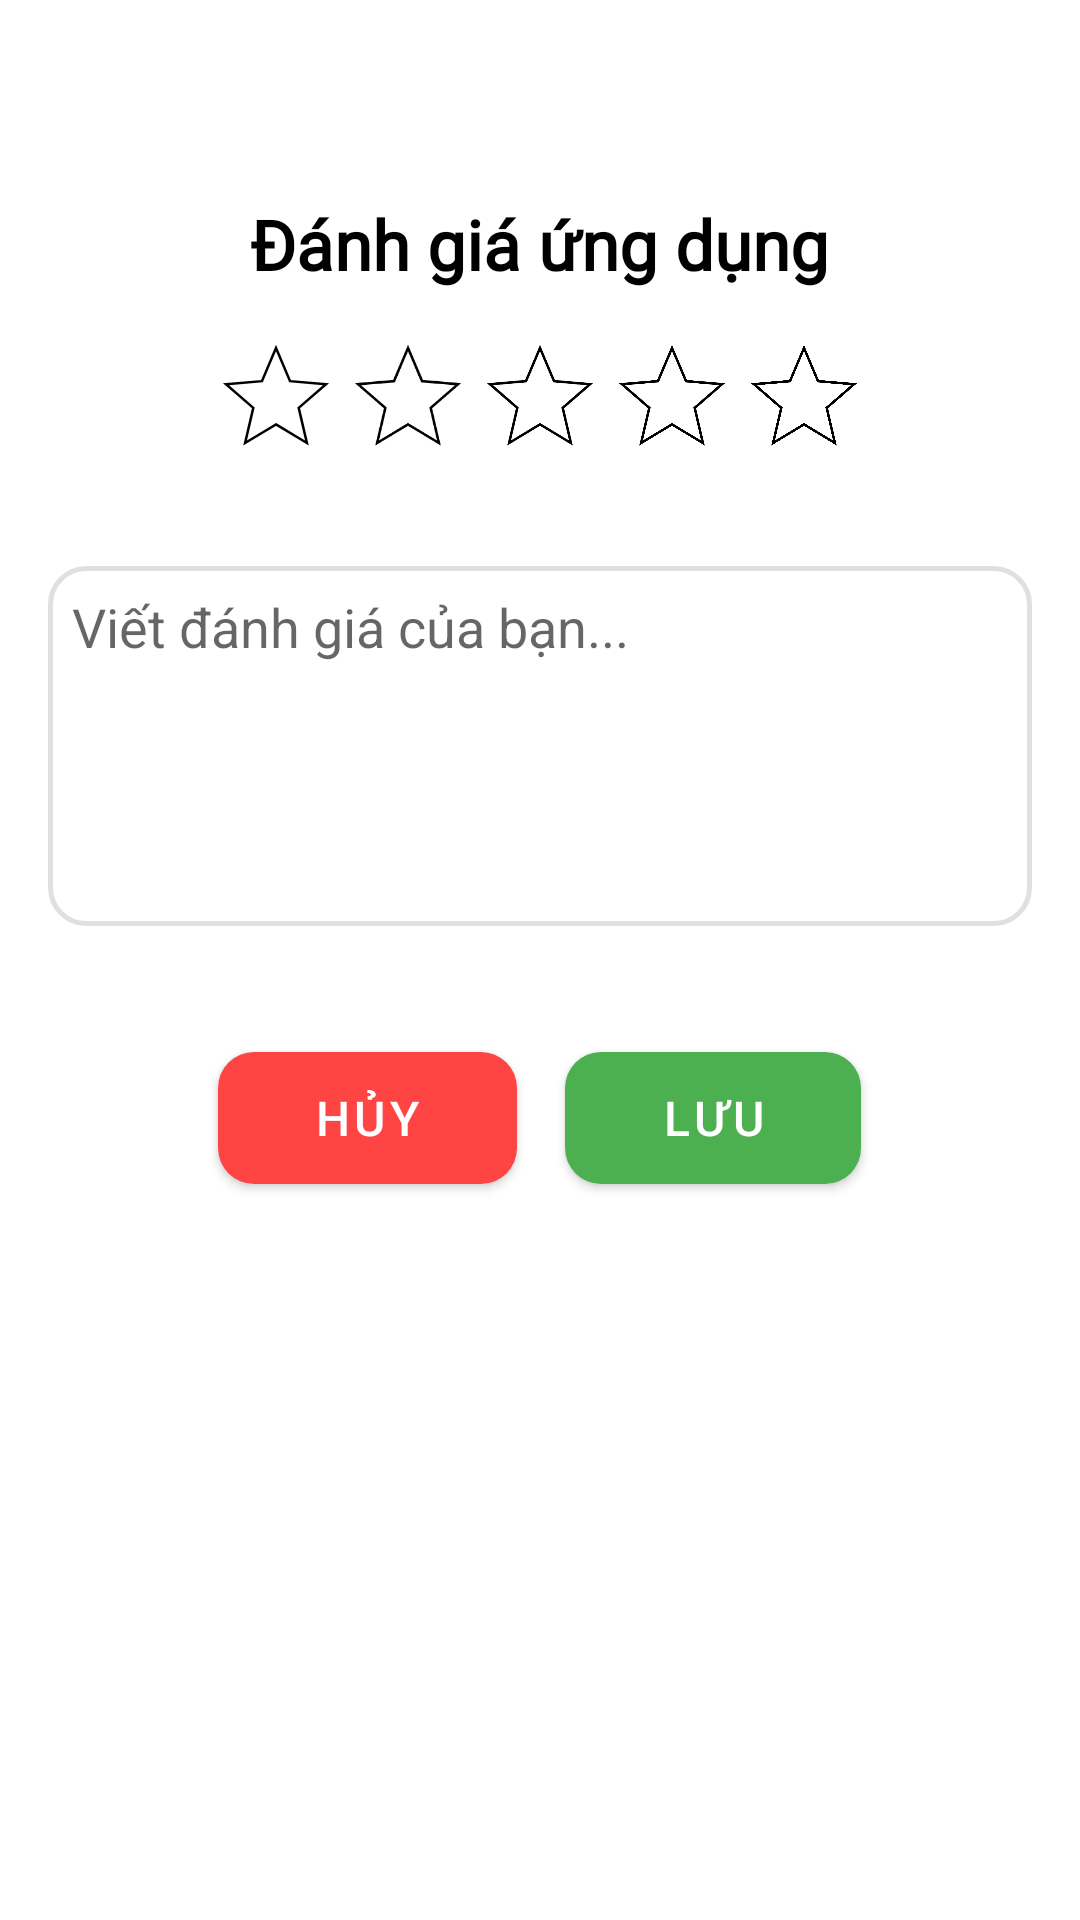

Icon click points for this 1080 × 1920 phone screenshot, format (x,y):
Star 1: (276,395)
Star 2: (408,395)
Star 3: (540,395)
Star 4: (672,396)
Star 5: (804,396)
